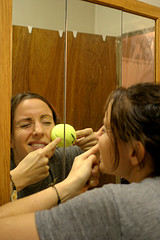tennis ball: (50, 123, 78, 149)
